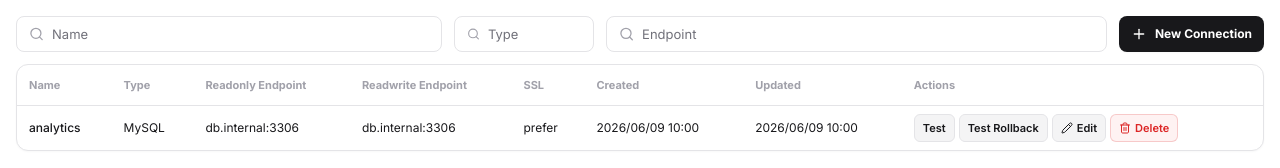
Test: DBConnectionsPage › tests a connection
The width and height of the screenshot is (1280, 168).
expect the link "analytics" is shown: met, box [29, 120, 80, 135]
Click the button "Test": x=934, y=128 [914, 114, 955, 142]
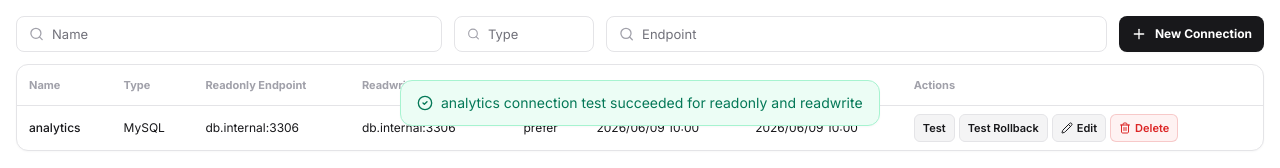
expect the text "analytics connection test succeeded for readonly and readwrite" is shown: met, box [441, 93, 863, 113]
